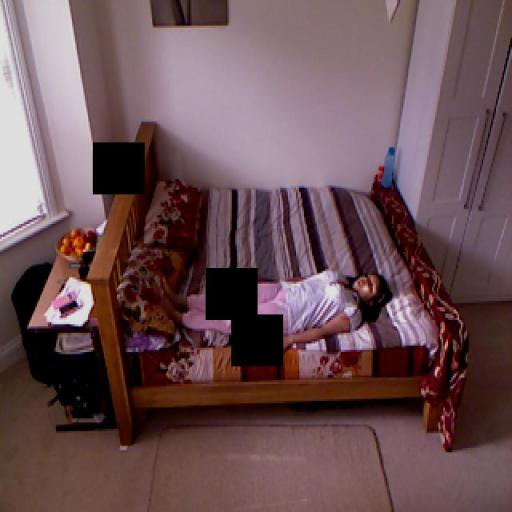Fall: (158, 267, 392, 357)
